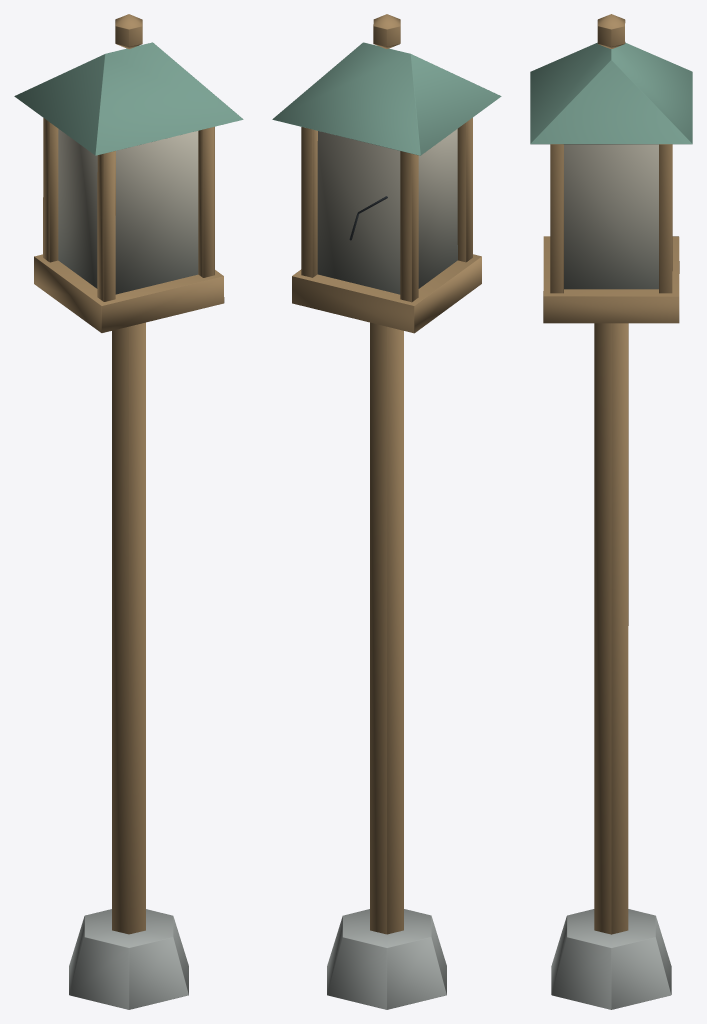
The model's file is lamp_broken_low.glb.
3 views of the same model, side by side, from view 1: azimuth 30°, elevation 25°; view 2: azimuth 150°, elevation 25°; view 3: azimuth 270°, elevation 25° (orthographic).
Bounding box in the file's own units: 0.5699 × 3.55 × 0.5401.
